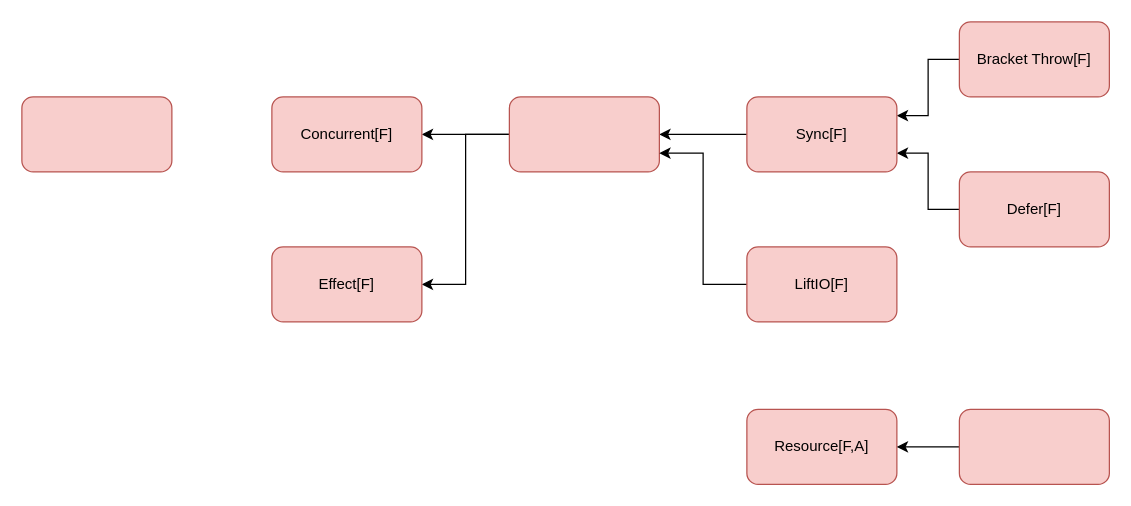
Some shapes in this 1131 by 506 pixel diagram are drawn without their labels. Here are the shapes that lost their labels. From the top down, the centre of each, then its label:
point 96,134: Fiber[F,A]
point 583,134: Async[F]
point 1033,446: ResourceLike[F,A]
